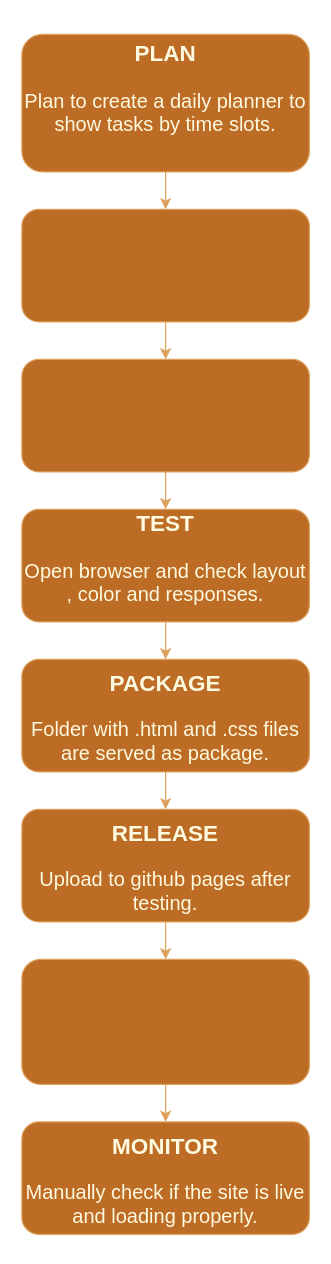
This 331x1264 diagram has some shape labels left out. Each missing label, with the centre of its shape:
BUILD Push code to github.: [165,415]
DEPLOY App deployed successfully and received a Congratulations message.: [165,1021]
DEVELOP build the layout using HTML and CSS.: [165,265]
